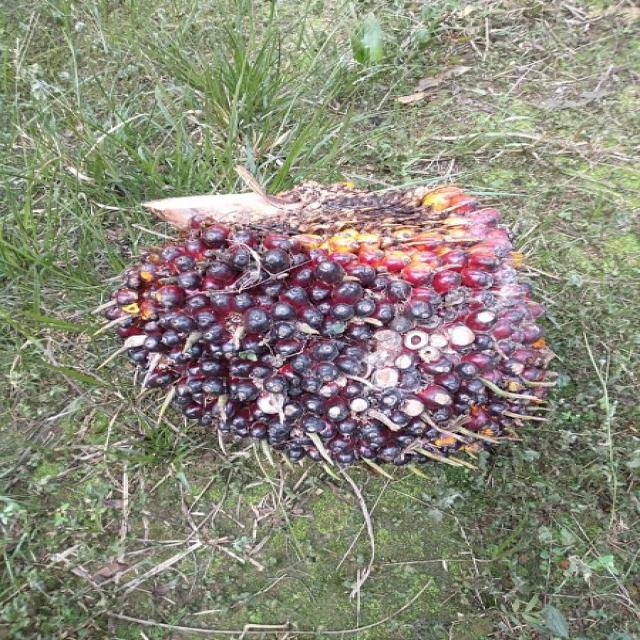fraksi 1: (71, 108, 610, 506)
